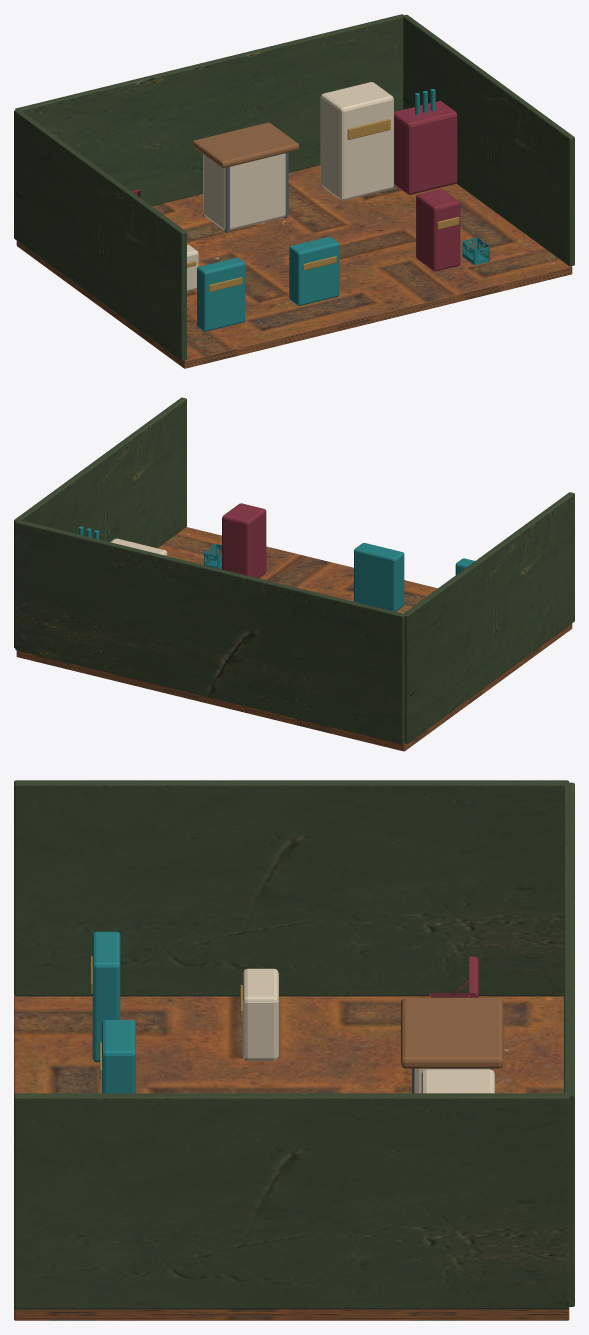
File: location_maintenance_workshop_v3.glb
The picture shows the model from 3 angles, top to bottom: view 1: azimuth 30°, elevation 25°; view 2: azimuth 150°, elevation 25°; view 3: azimuth 270°, elevation 25°; orthographic projection. The views are drawn at different scales.
Parts seen in each view (by area): view 1: location_maintenance_workshop_v3_FLOOR, location_maintenance_workshop_v3_BACK, location_maintenance_workshop_v3_LEFT, location_maintenance_workshop_v3_RIGHT, INT_TOOL_WALL_BODY.001, ARCH_CONDUIT_BUNDLE_BODY.001, INT_WORKBENCH_BODY.001, ARCH_VENT_UNIT_BODY.001, STREET_WORK_ZONE_BODY.001, INT_WORKBENCH_TOP.001, STREET_UTILITY_CABINET_BODY.001, plastic_crate_01.001 (+1 smaller); view 2: location_maintenance_workshop_v3_BACK, location_maintenance_workshop_v3_LEFT, location_maintenance_workshop_v3_RIGHT, location_maintenance_workshop_v3_FLOOR, STREET_UTILITY_CABINET_BODY.001, ARCH_VENT_UNIT_BODY.001; view 3: location_maintenance_workshop_v3_RIGHT, location_maintenance_workshop_v3_LEFT, location_maintenance_workshop_v3_FLOOR, INT_WORKBENCH_TOP.001, location_maintenance_workshop_v3_BACK, INT_LOCKER_BANK_BODY.001, STREET_WORK_ZONE_BODY.001, STREET_UTILITY_CABINET_BODY.001, INT_TOOL_WALL_BODY.001.
Boxes of the visible parts, box(x1,y1,x2,y2) form: location_maintenance_workshop_v3_FLOOR: box(16, 165, 572, 368); location_maintenance_workshop_v3_BACK: box(15, 14, 404, 205); location_maintenance_workshop_v3_LEFT: box(14, 109, 186, 360); location_maintenance_workshop_v3_RIGHT: box(403, 14, 574, 266); INT_TOOL_WALL_BODY.001: box(320, 82, 393, 200); ARCH_CONDUIT_BUNDLE_BODY.001: box(394, 100, 457, 194); INT_WORKBENCH_BODY.001: box(203, 153, 285, 230); ARCH_VENT_UNIT_BODY.001: box(416, 189, 460, 271); STREET_WORK_ZONE_BODY.001: box(197, 257, 245, 331); INT_WORKBENCH_TOP.001: box(192, 122, 299, 168); STREET_UTILITY_CABINET_BODY.001: box(289, 236, 339, 305); plastic_crate_01.001: box(462, 237, 489, 264); location_maintenance_workshop_v3_BACK: box(15, 520, 404, 744); location_maintenance_workshop_v3_LEFT: box(403, 492, 574, 743); location_maintenance_workshop_v3_RIGHT: box(14, 397, 186, 647); location_maintenance_workshop_v3_FLOOR: box(16, 527, 572, 751); STREET_UTILITY_CABINET_BODY.001: box(354, 543, 404, 611); ARCH_VENT_UNIT_BODY.001: box(222, 503, 266, 578); location_maintenance_workshop_v3_RIGHT: box(14, 1093, 569, 1309); location_maintenance_workshop_v3_LEFT: box(14, 780, 569, 996); location_maintenance_workshop_v3_FLOOR: box(14, 996, 569, 1320); INT_WORKBENCH_TOP.001: box(401, 997, 503, 1068); location_maintenance_workshop_v3_BACK: box(564, 782, 574, 1306); INT_LOCKER_BANK_BODY.001: box(242, 968, 278, 1060); STREET_WORK_ZONE_BODY.001: box(92, 931, 120, 1062); STREET_UTILITY_CABINET_BODY.001: box(102, 1020, 135, 1093); INT_TOOL_WALL_BODY.001: box(421, 1069, 494, 1093).
Size of the model in its own units: 12.18 by 4.04 by 9.09.
Materials: 9 (2 with a texture image).
